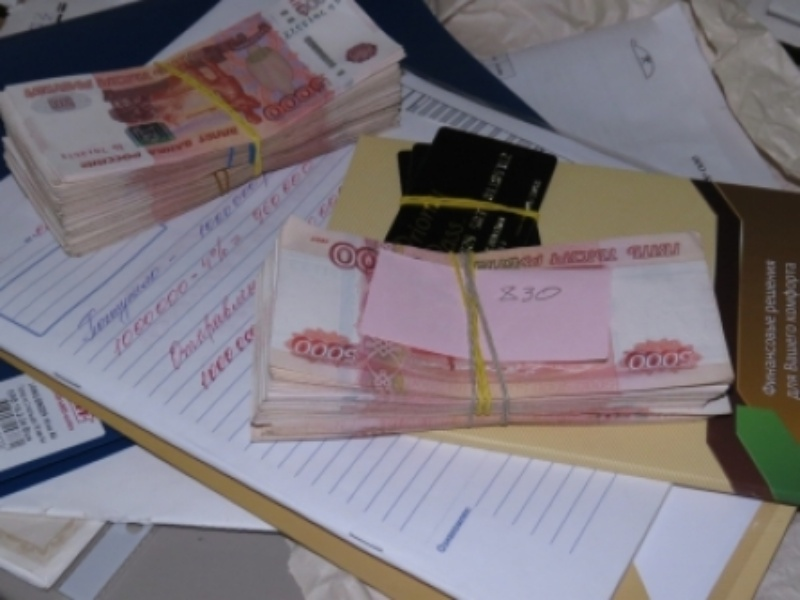cash: (251, 213, 735, 443), (1, 1, 406, 259)
